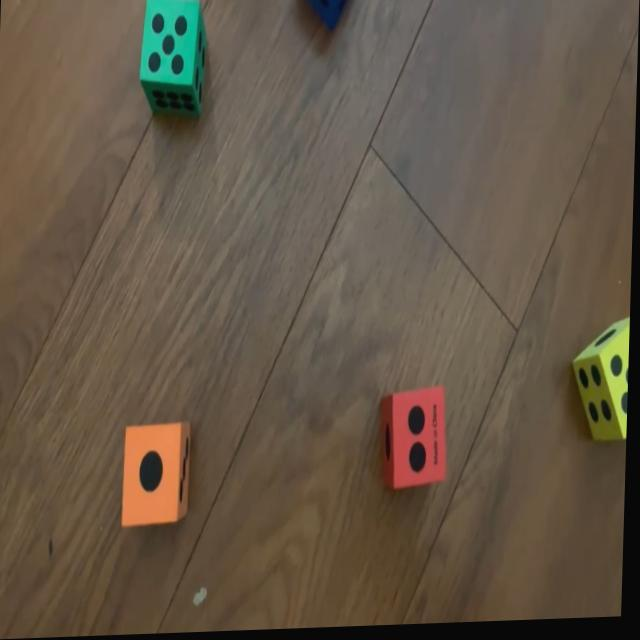cube: (136, 0, 209, 118), (380, 389, 451, 495), (298, 0, 349, 29)
